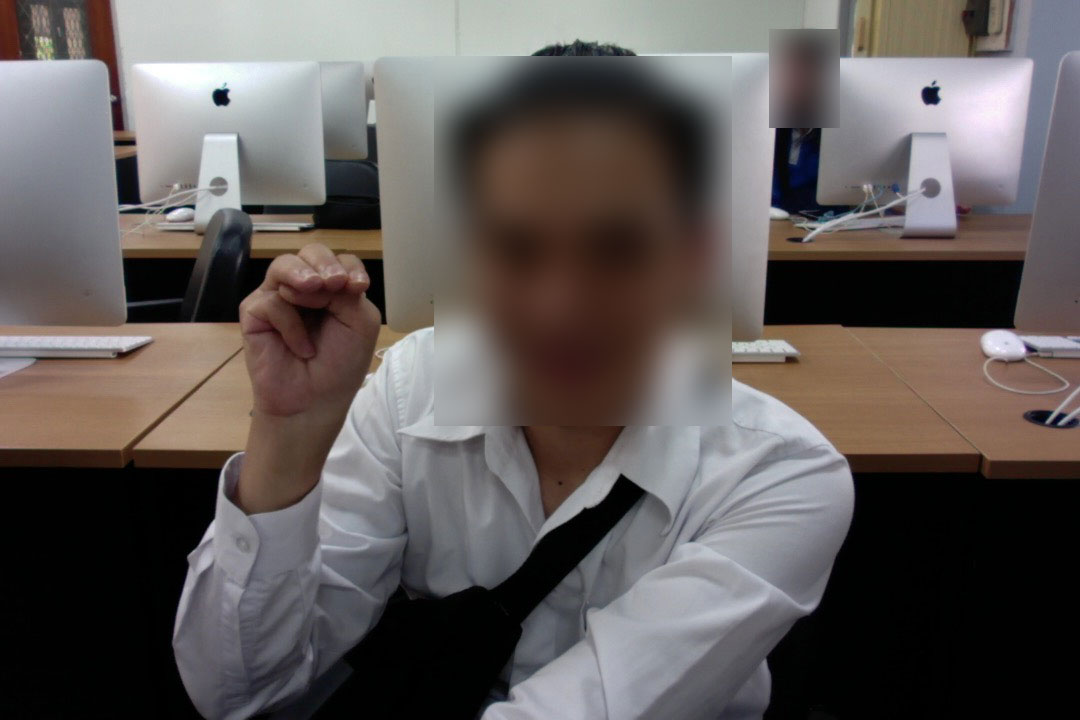mor: (238, 233, 384, 437)
